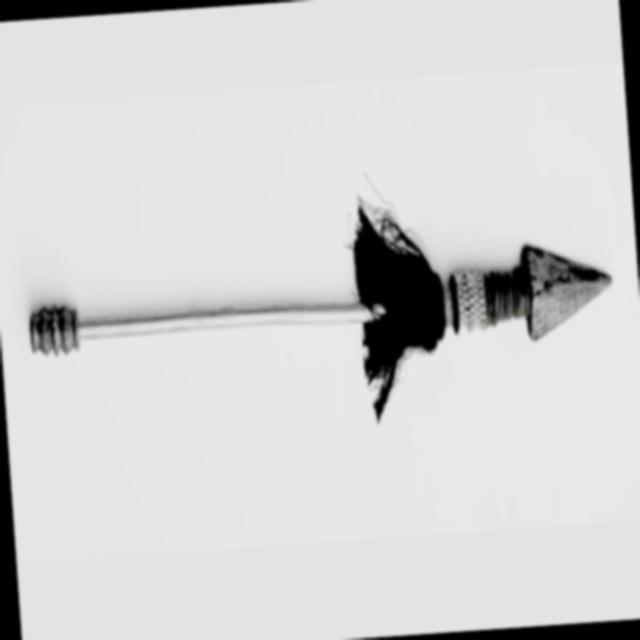spear: (8, 203, 628, 441)
